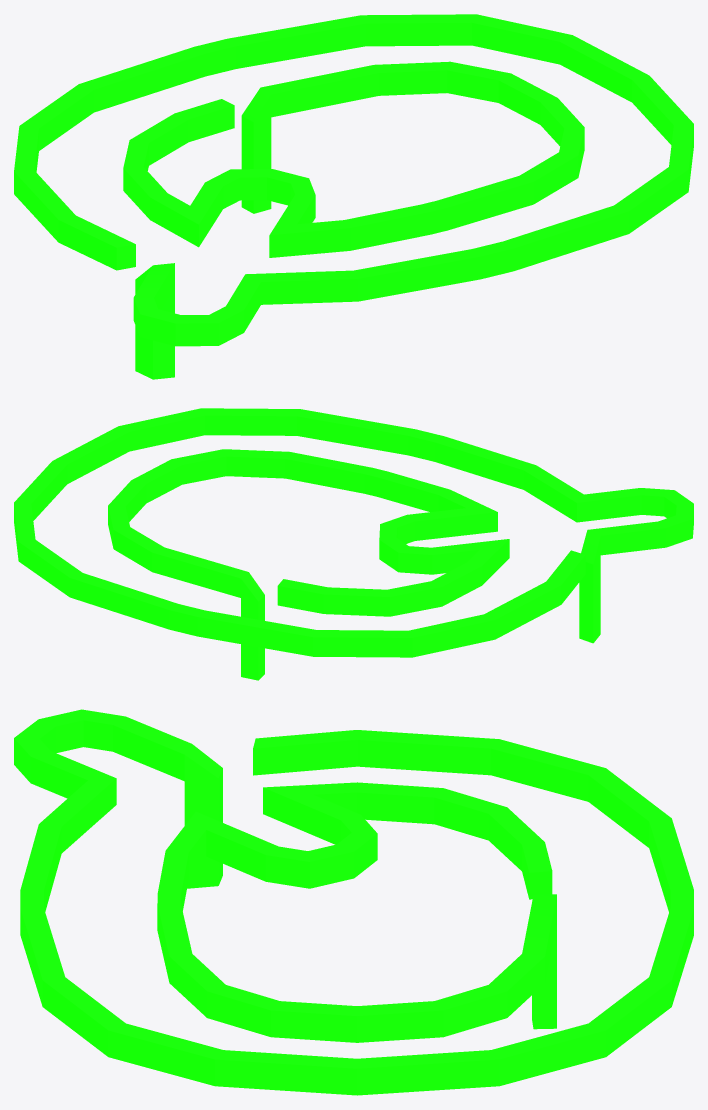
File: Alphabet_3D_04_Q.FBX
3 views of the same model, one above another, from view 1: azimuth 30°, elevation 25°; view 2: azimuth 150°, elevation 25°; view 3: azimuth 270°, elevation 25° (orthographic). The views are drawn at different scales.
Visible parts, largest first — view 1: Alphabet_3D_04_Q; view 2: Alphabet_3D_04_Q; view 3: Alphabet_3D_04_Q.
Part boxes in pixels (bbox=[...]): Alphabet_3D_04_Q: bbox=[14, 14, 693, 379]; Alphabet_3D_04_Q: bbox=[14, 408, 693, 680]; Alphabet_3D_04_Q: bbox=[14, 709, 693, 1095].
Size of the model in its own units: 72.44 by 12.63 by 57.94.
